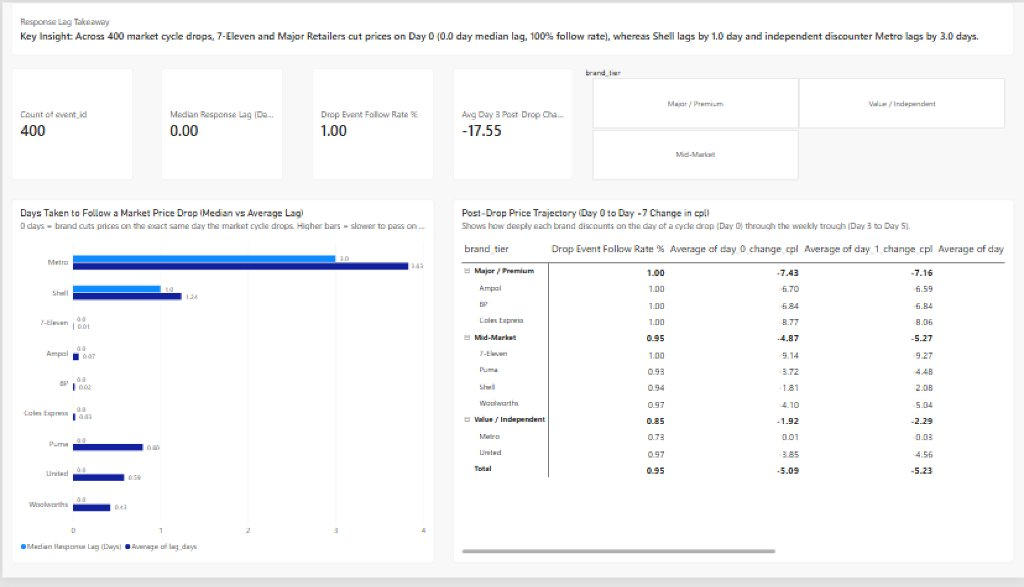

What the dashboard file says about the page in this screenshot:
{"tool":"powerbi","page":{"name":"Competitor Response Lag ","canvas":[1920,1080],"ordinal":1},"visuals":[{"type":"cardVisual","fields":{"Data":["_Measures (2).Response Lag Takeaway"]},"box":[17.3,0,1886.5,100],"z":0},{"type":"slicer","fields":{"Values":["dim_brand.brand_tier"]},"box":[1088.4,123.3,816.3,211.6],"z":1000},{"type":"cardVisual","fields":{"Data":["Count(fact_market_drop_response.event_id)"]},"box":[16.7,123.6,230.6,211.1],"z":2000},{"type":"cardVisual","fields":{"Data":["_Measures (2).Median Response Lag (Days)"]},"box":[297.2,123.6,230.6,211.1],"z":3000},{"type":"cardVisual","fields":{"Data":["_Measures (2).Drop Event Follow Rate %"]},"box":[581.9,123.6,230.6,211.1],"z":4000},{"type":"cardVisual","fields":{"Data":["_Measures (2).Avg Day 3 Post-Drop Change (cpl)"]},"box":[846.5,123.3,226.4,211.1],"z":5000},{"type":"clusteredBarChart","title":"Days Taken to Follow a Market Price Drop (Median vs Average Lag)","fields":{"Category":["dim_brand.brand_name"],"Y":["_Measures (2).Median Response Lag (Days)","Avg(fact_market_drop_response.lag_days)"]},"box":[16.7,369.4,795.8,684.7],"z":6000},{"type":"pivotTable","title":"Post-Drop Price Trajectory (Day 0 to Day +7 Change in cpl)","fields":{"Rows":["dim_brand.brand_tier","dim_brand.brand_name"],"Values":["_Measures (2).Drop Event Follow Rate %","Avg(fact_market_drop_response.day_0_change_cpl)","Avg(fact_market_drop_response.day_1_change_cpl)","Avg(fact_market_drop_response.day_3_change_cpl)","Avg(fact_market_drop_response.day_5_change_cpl)","Avg(fact_market_drop_response.day_7_change_cpl)"]},"box":[846.5,369.8,1055.8,683.7],"z":7000}]}

Visuals, with their boxes in screenshot pixels (x1, y1, x2, y2), scaled from the page's 1920x1080 canvas onto the 1024x587 screenshot:
cardVisual - _Measures (2).Response Lag Takeaway: <region>9, 0, 1015, 54</region>
slicer - dim_brand.brand_tier: <region>580, 67, 1016, 182</region>
cardVisual - Count(fact_market_drop_response.event_id): <region>9, 67, 132, 182</region>
cardVisual - _Measures (2).Median Response Lag (Days): <region>159, 67, 281, 182</region>
cardVisual - _Measures (2).Drop Event Follow Rate %: <region>310, 67, 433, 182</region>
cardVisual - _Measures (2).Avg Day 3 Post-Drop Change (cpl): <region>451, 67, 572, 182</region>
"Days Taken to Follow a Market Price Drop (Median vs Average Lag)" clusteredBarChart: <region>9, 201, 433, 573</region>
"Post-Drop Price Trajectory (Day 0 to Day +7 Change in cpl)" pivotTable: <region>451, 201, 1015, 573</region>
